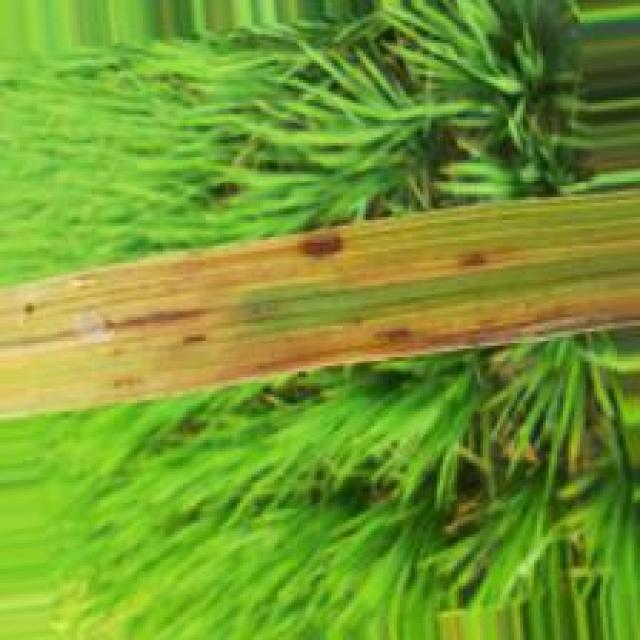Rice Tungro: (0, 219, 640, 419)
